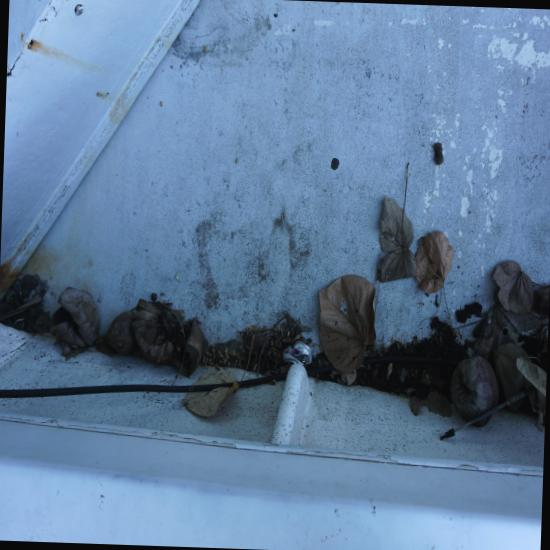Drink can: (282, 341, 312, 366)
